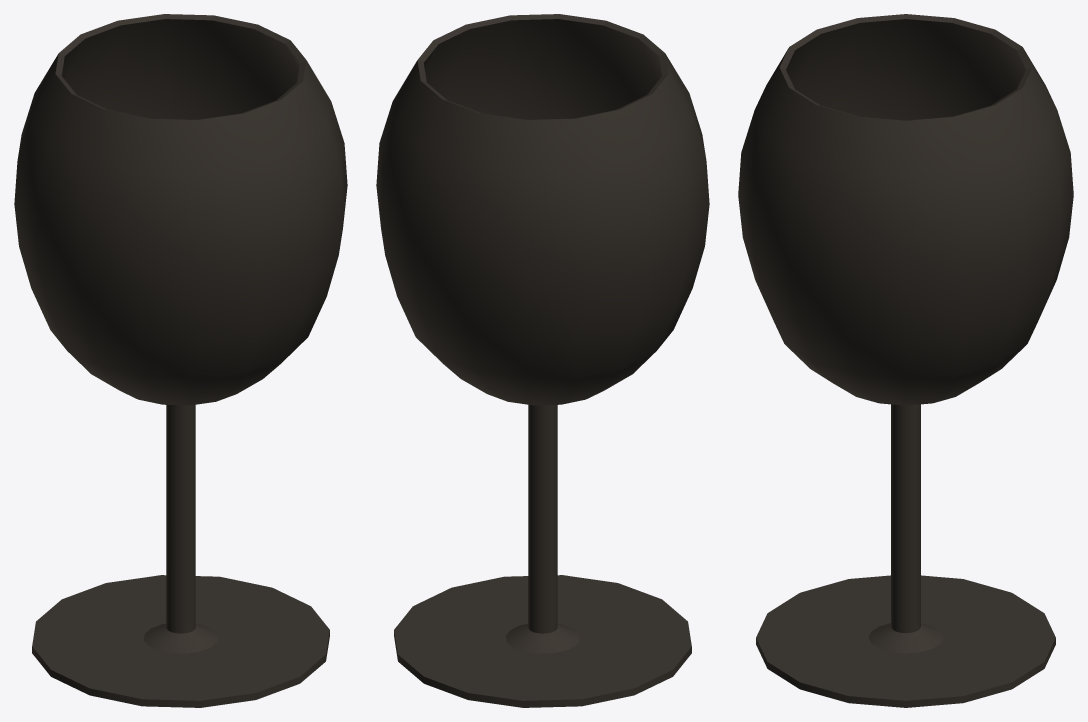
File: BgMD_Glass02_02.fbx
3 renders of one model, left to right at view 1: azimuth 30°, elevation 25°; view 2: azimuth 150°, elevation 25°; view 3: azimuth 270°, elevation 25°, orthographic.
Parts seen in each view (by area): view 1: BgMD_Grass_01; view 2: BgMD_Grass_01; view 3: BgMD_Grass_01.
Part boxes in pixels (x1=…): BgMD_Grass_01: x1=14, y1=14, x2=347, y2=707; BgMD_Grass_01: x1=376, y1=14, x2=709, y2=707; BgMD_Grass_01: x1=738, y1=14, x2=1073, y2=707.
Bounding box in the file's own units: 0.0895 × 0.1699 × 0.0895.
